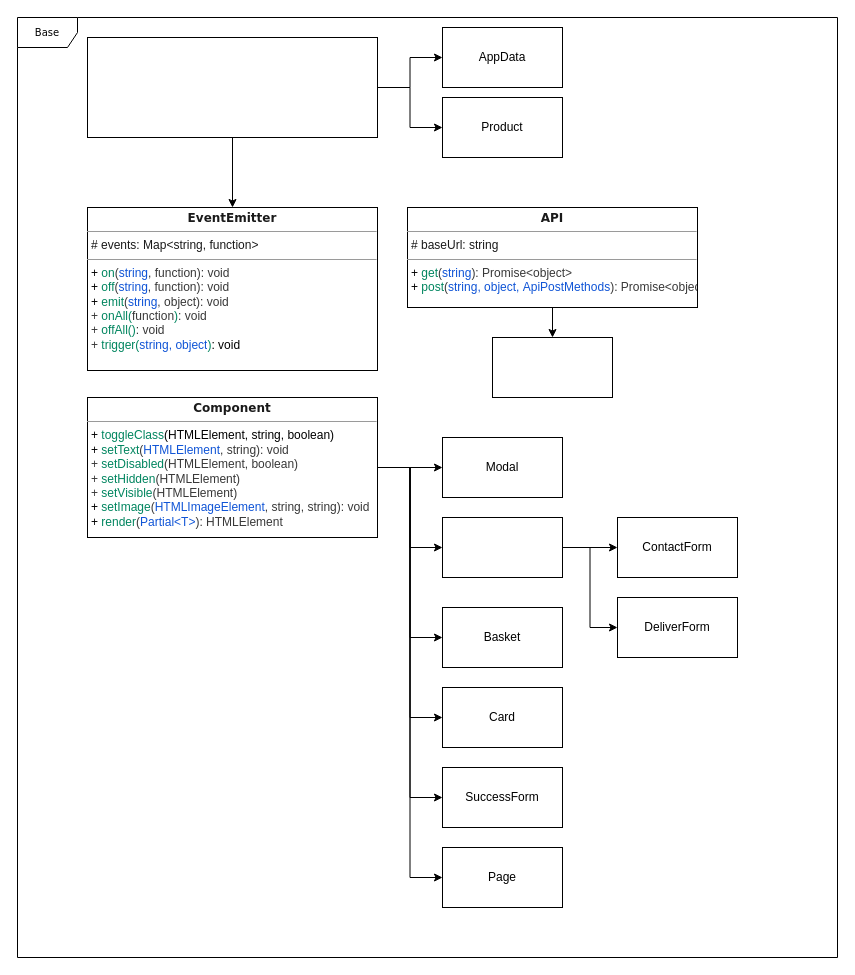
The diagram is 855 pixels wide and 975 high, and some of its shapes have lost their labels. Each missing label, with the centre of its shape:
Form: point (502, 547)
LarekApi: point (552, 367)
Model + emitChanges ( string, object ): void: point (232, 87)
